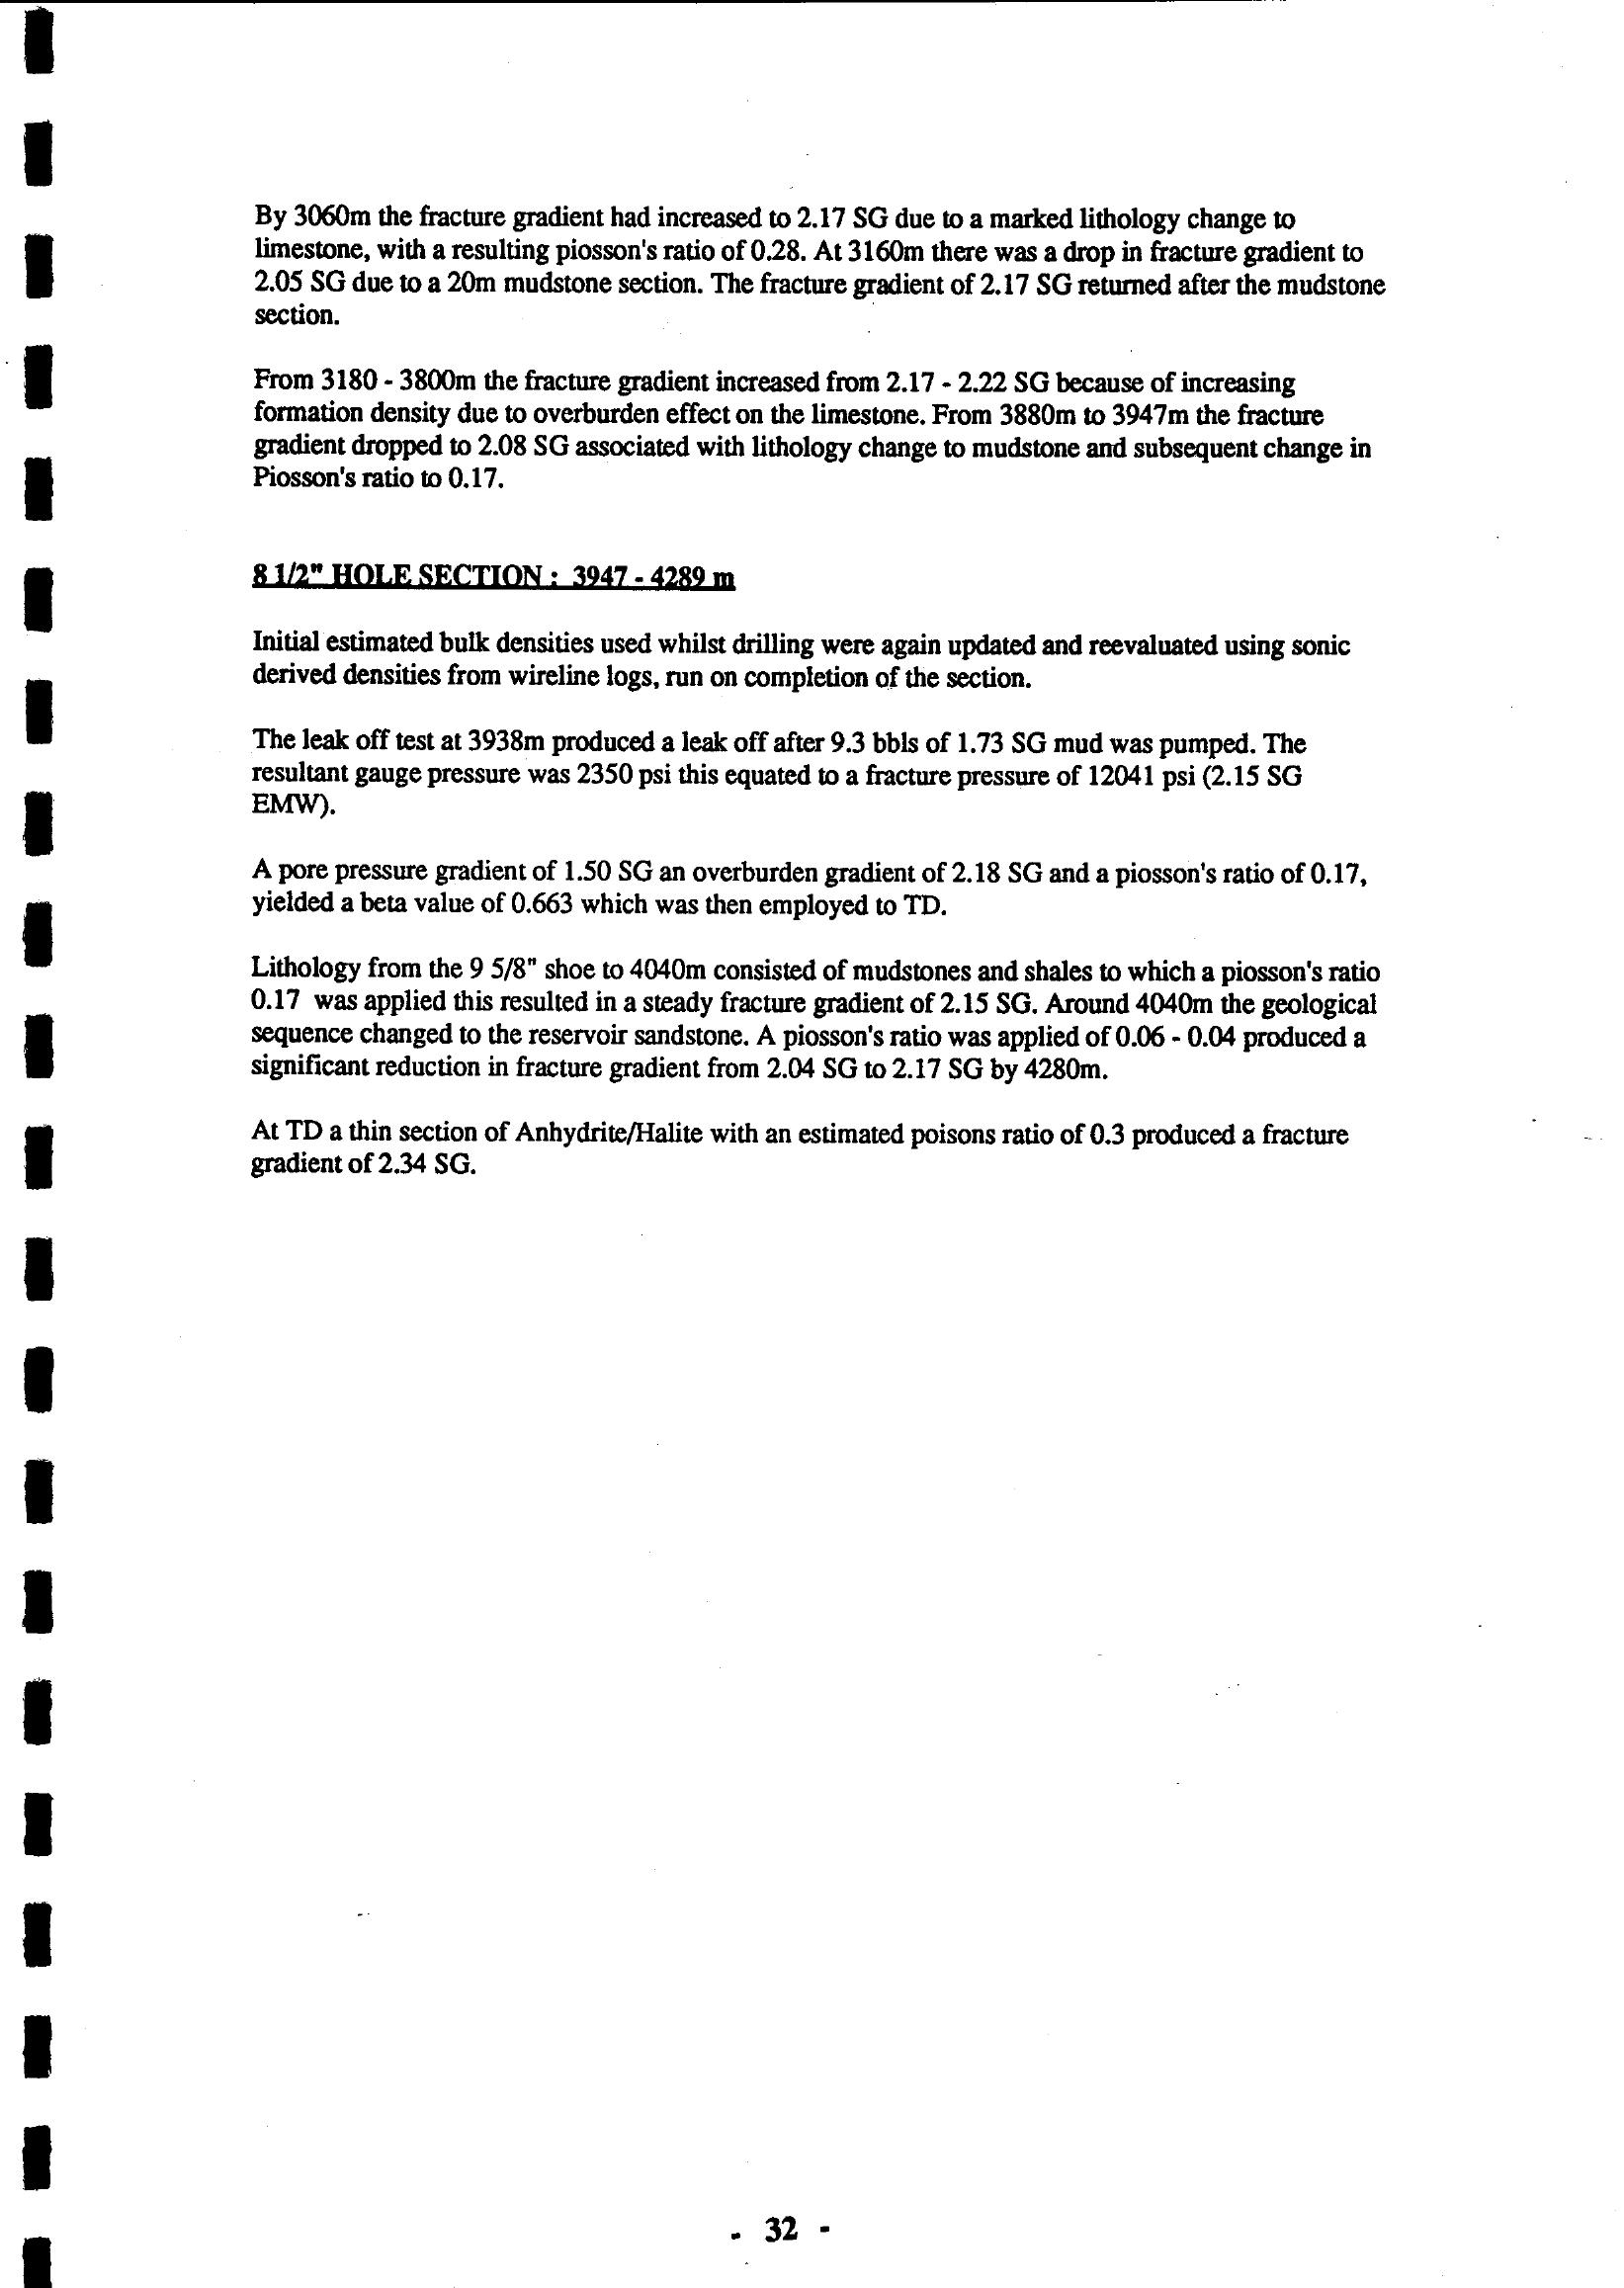text: (223, 177, 1420, 1207)
